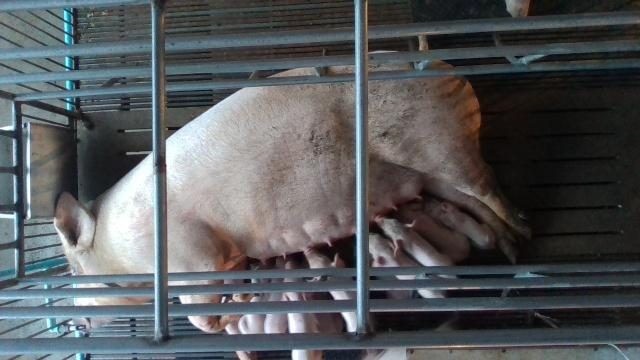piglet: (304, 248, 373, 333), (373, 216, 458, 279), (366, 232, 445, 298), (402, 204, 471, 261), (285, 260, 324, 360), (428, 198, 496, 251), (239, 264, 264, 335), (264, 259, 286, 335)
sow-sleep-lactate: (55, 52, 532, 360)
